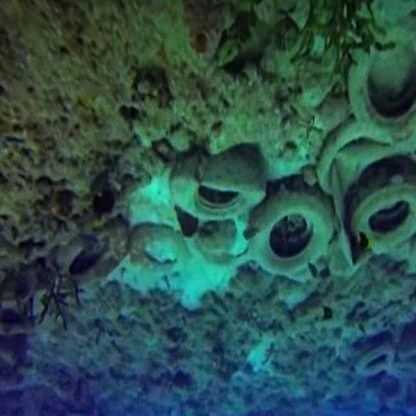tire: (173, 147, 265, 233), (254, 186, 337, 278), (51, 208, 131, 294), (356, 42, 416, 152), (352, 155, 416, 258)
